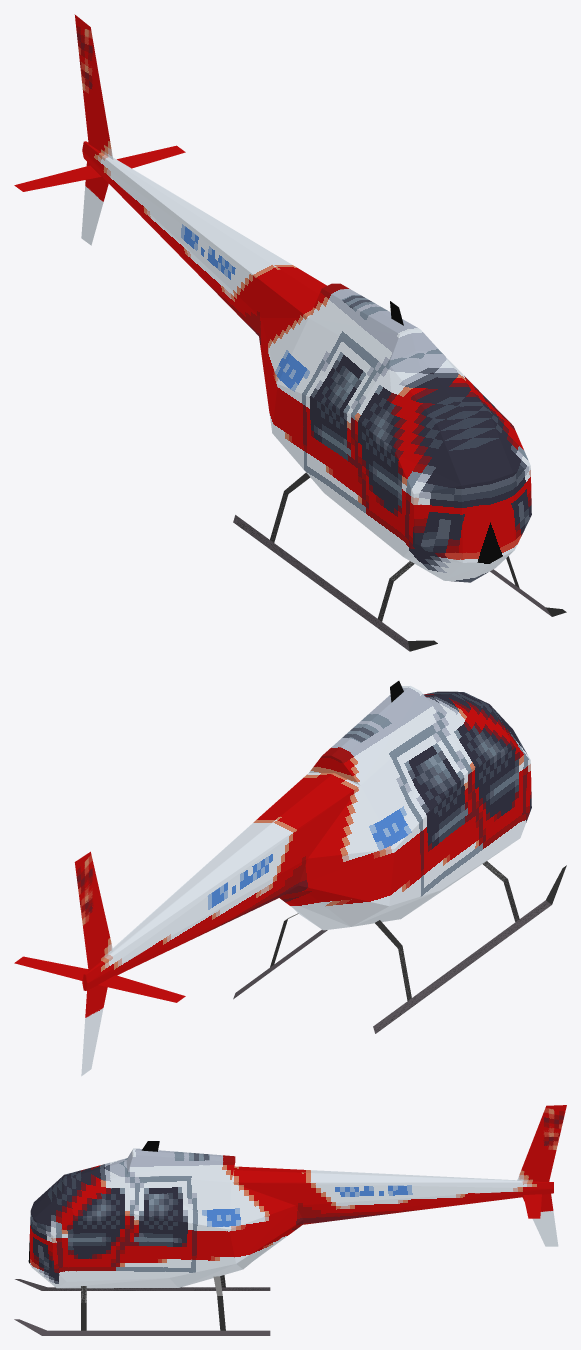
Rendered from heli-body.glb.
The picture shows the model from 3 angles, top to bottom: view 1: azimuth 30°, elevation 25°; view 2: azimuth 150°, elevation 25°; view 3: azimuth 270°, elevation 25°; orthographic projection. The views are drawn at different scales.
Parts seen in each view (by area): view 1: heli-body; view 2: heli-body; view 3: heli-body.
Part boxes in pixels (x1=…): heli-body: x1=14, y1=14, x2=566, y2=651; heli-body: x1=14, y1=681, x2=566, y2=1076; heli-body: x1=14, y1=1105, x2=566, y2=1335.
Bounding box in the file's own units: 0.418 × 0.792 × 1.9.
6 materials, 1 textured.
